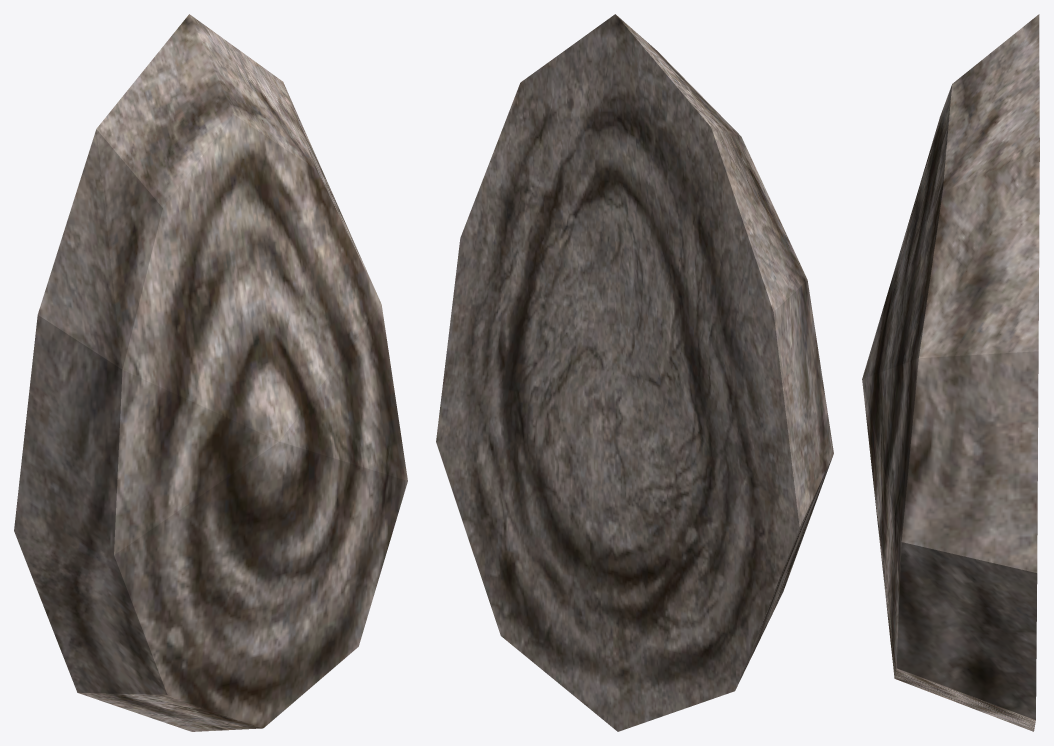
Rendered from thm_dath_mtn_clan_pillar_s01_l2.fbx.
3 views of the same model, side by side, from view 1: azimuth 30°, elevation 25°; view 2: azimuth 150°, elevation 25°; view 3: azimuth 270°, elevation 25° (orthographic).
Visible parts, largest first — view 1: mesh_node; view 2: mesh_node; view 3: mesh_node.
Boxes of the visible parts, x1,y1,x2,y2 form: mesh_node: (14, 14, 407, 731); mesh_node: (436, 14, 833, 731); mesh_node: (862, 14, 1039, 731).
Size of the model in its own units: 6.12 by 11.68 by 2.62.
Materials: 2 (2 with a texture image).
